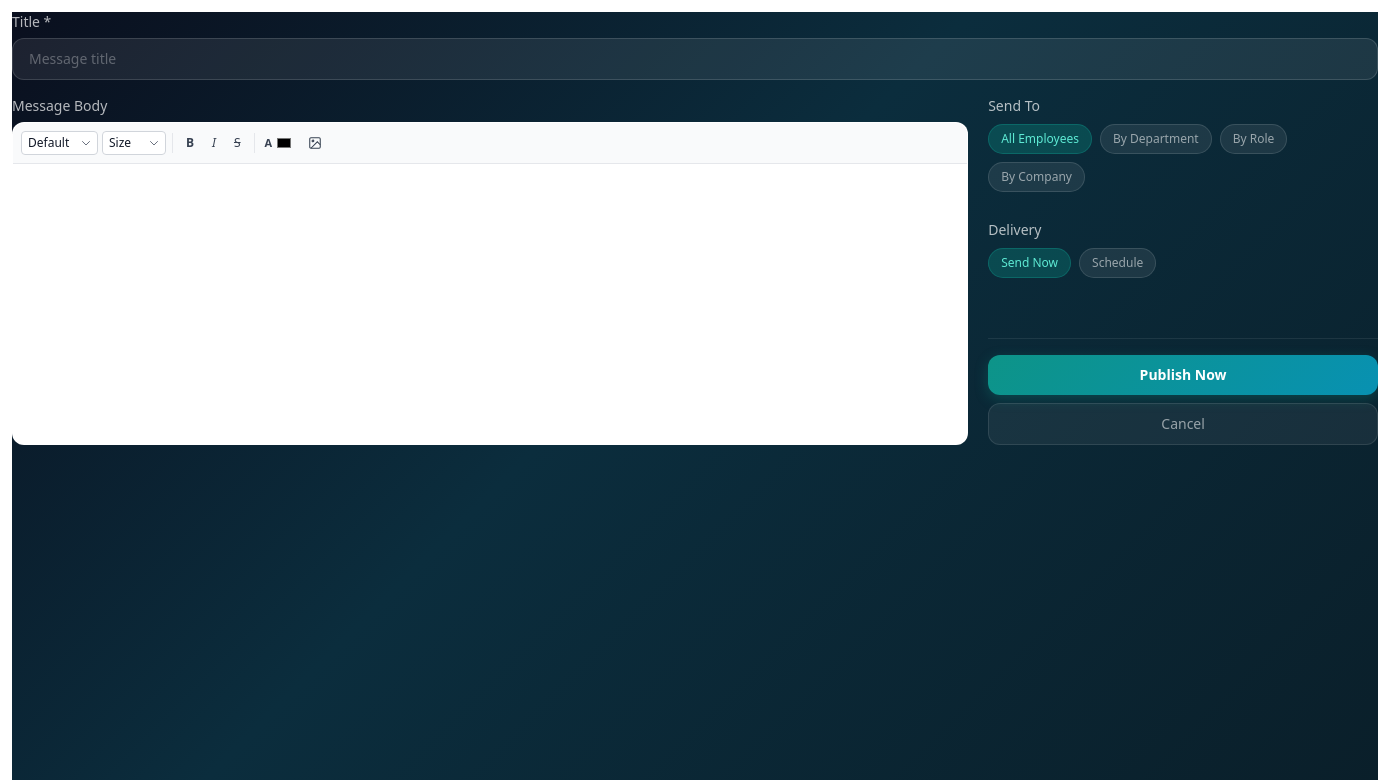
Test: MessageForm › shows date-time picker when Schedule is selected
Click the button "Schedule": coordinates (1118, 263) [1079,248,1156,278]
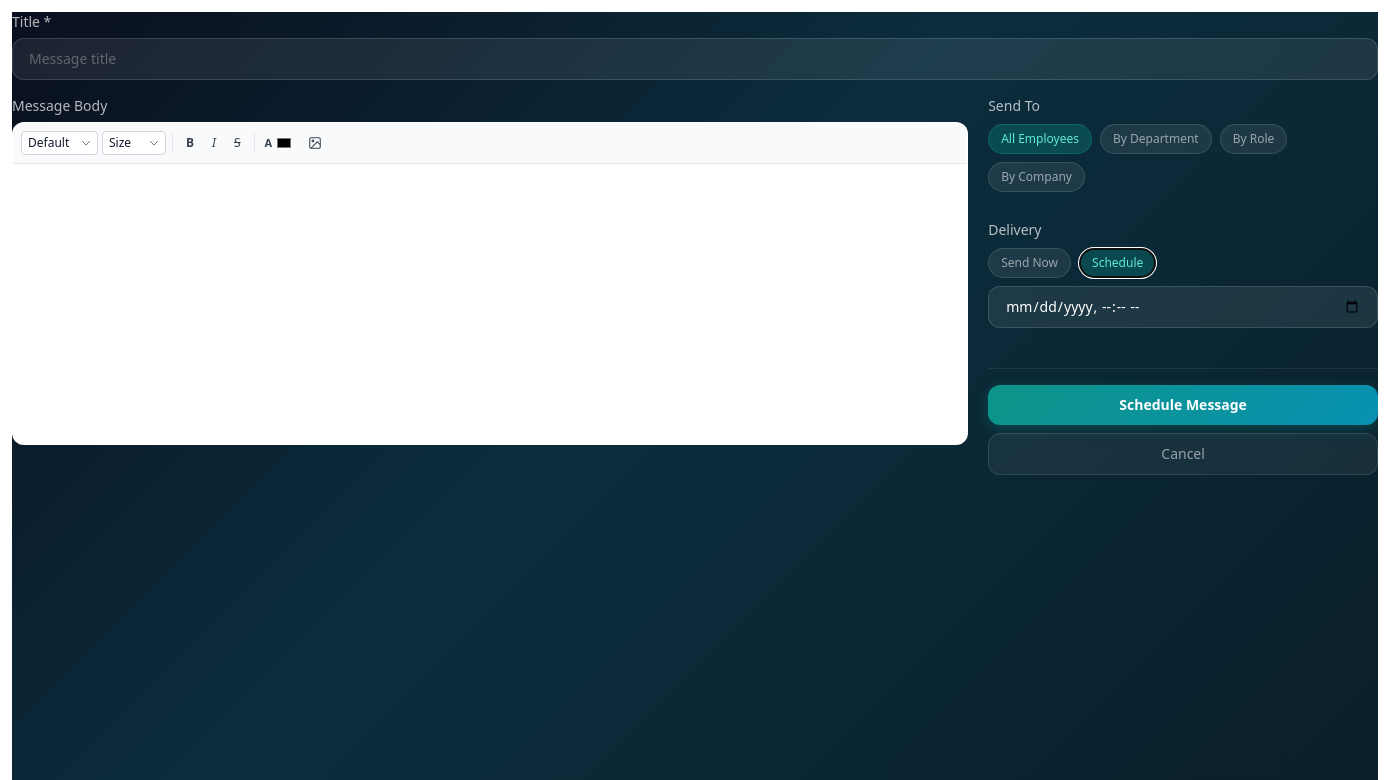
Now the field named "Scheduled date and time" is shown, box [988,286,1378,328]
